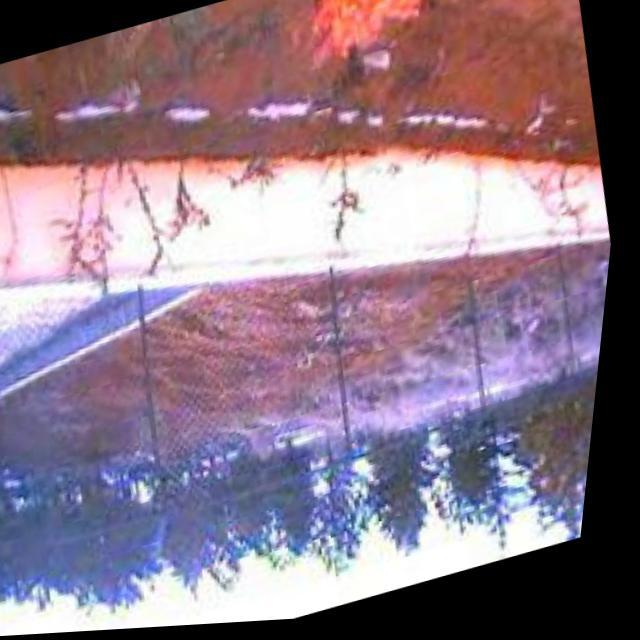fire: (286, 0, 480, 80)
